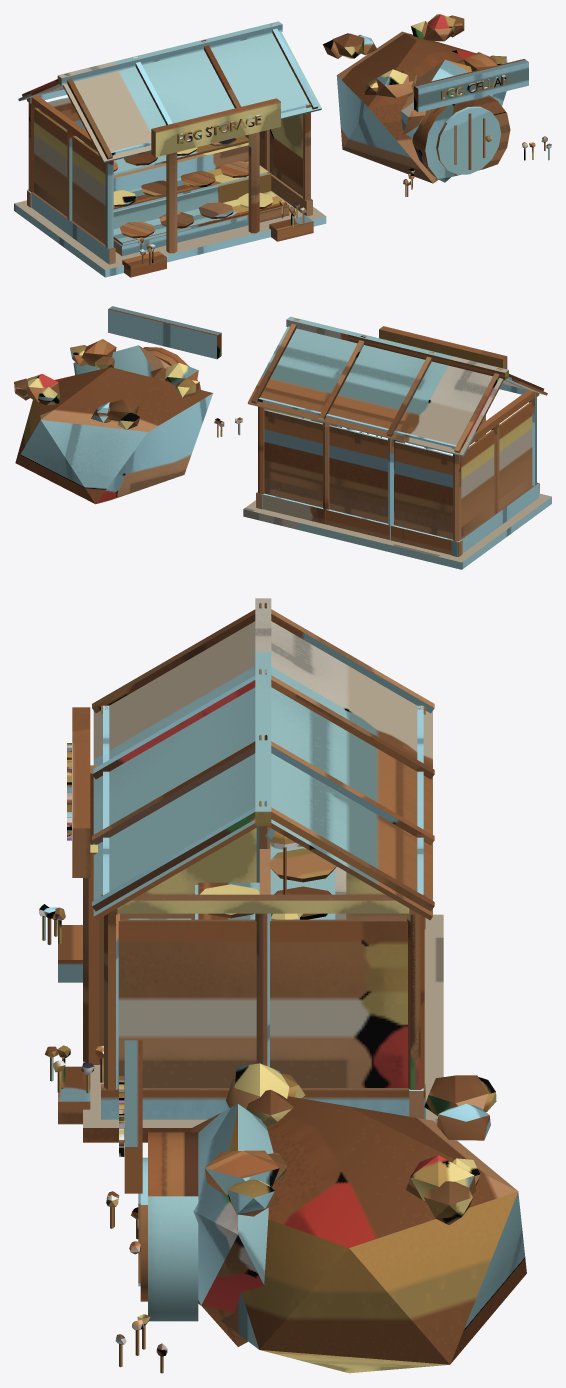
File: home_cellar_1.fbx
3 renders of one model, top to bottom at view 1: azimuth 30°, elevation 25°; view 2: azimuth 150°, elevation 25°; view 3: azimuth 270°, elevation 25°, orthographic. The views are drawn at different scales.
Visible parts, largest first — view 1: home_cellar_1_body; view 2: home_cellar_1_body; view 3: home_cellar_1_body.
Part boxes in pixels (x1,y1,x2,y2): home_cellar_1_body: [14, 14, 551, 277]; home_cellar_1_body: [14, 306, 551, 569]; home_cellar_1_body: [39, 598, 526, 1373].
Size of the model in its own units: 2927 by 1256 by 1354.
Materials: 2 (1 with a texture image).
